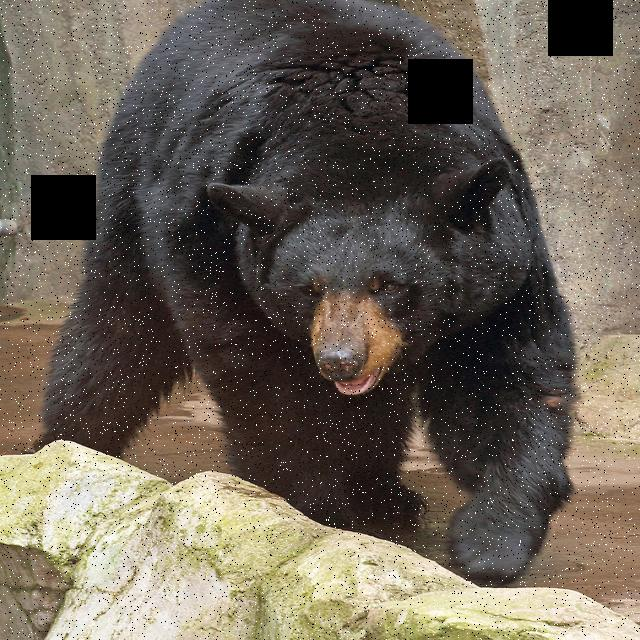Bear: (50, 0, 578, 585)
